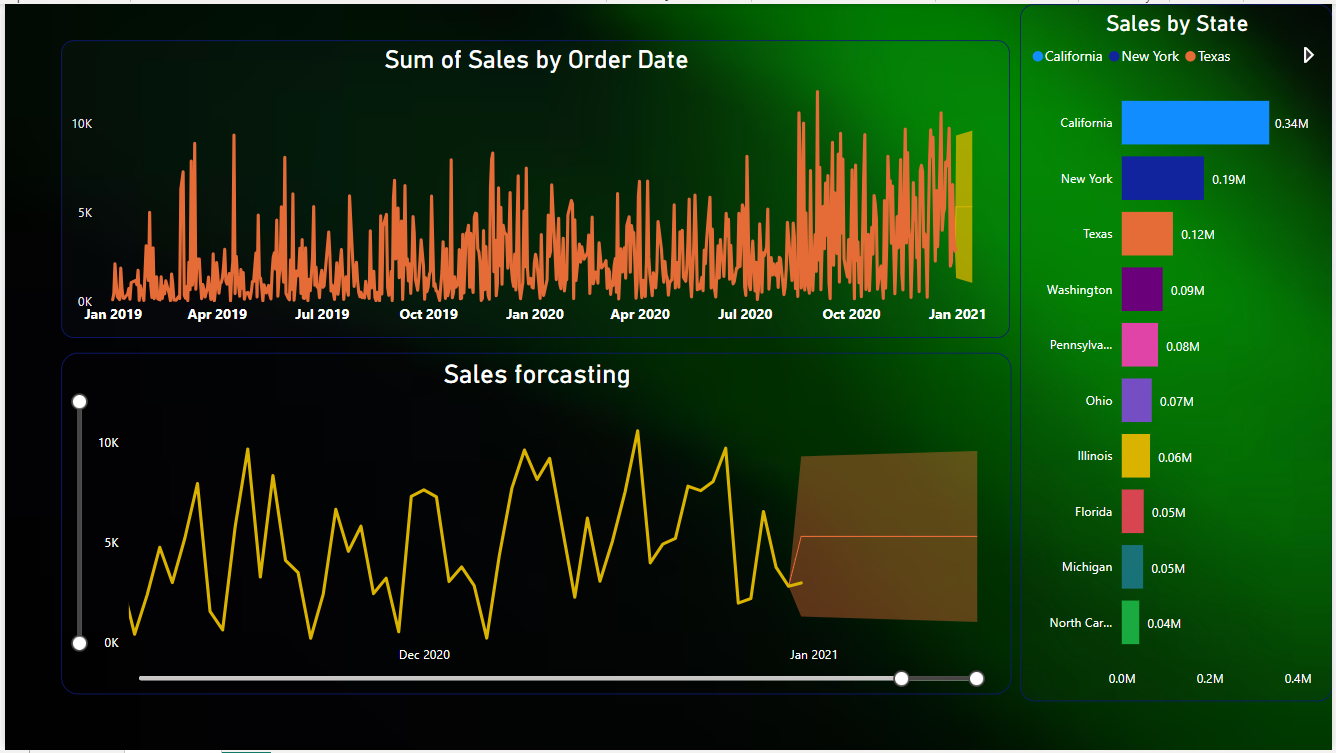

The page's visual inventory and layout, read from the dashboard file:
{"tool":"powerbi","page":{"name":"Page 2","canvas":[1280,720],"ordinal":1},"visuals":[{"type":"lineChart","title":"Sum of Sales by Order Date","fields":{"Y":["Sum(Sheet1.Sales)"],"Category":["Sheet1.Order Date"]},"box":[54.3,35,915.4,287],"z":0},{"type":"lineChart","title":"Sales forcasting","fields":{"Y":["Sum(Sheet1.Sales)"],"Category":["Sheet1.Order Date"]},"box":[54.3,336.5,916.6,329.2],"z":1000},{"type":"barChart","title":"Sales by State","fields":{"Category":["Sheet1.State"],"Y":["Sum(Sheet1.Sales)"],"Series":["Sheet1.State"]},"box":[978.9,0,301.6,673.2],"z":2000}]}

Visuals, with their boxes in screenshot pixels (x1, y1, x2, y2), scaled from the page's 1280x720 canvas onto the 1336x753 screenshot:
"Sum of Sales by Order Date" lineChart: box=[57, 37, 1012, 337]
"Sales forcasting" lineChart: box=[57, 352, 1013, 696]
"Sales by State" barChart: box=[1022, 0, 1335, 704]
